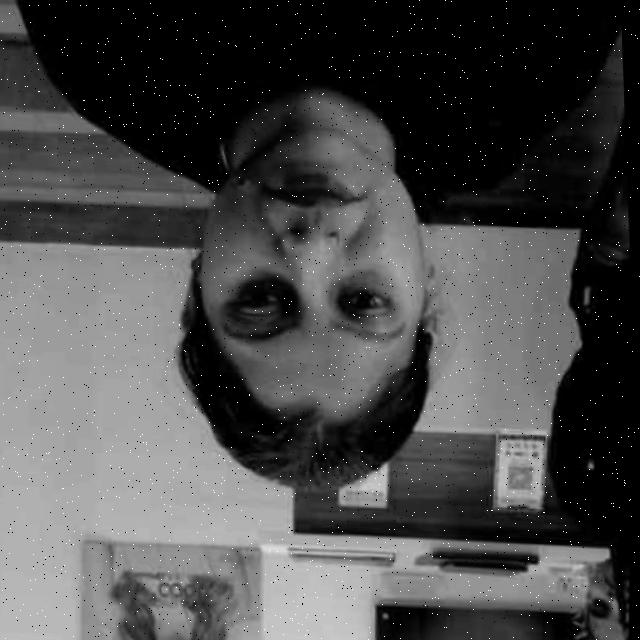puffy_eyes: (239, 276, 303, 314), (340, 275, 394, 298)
